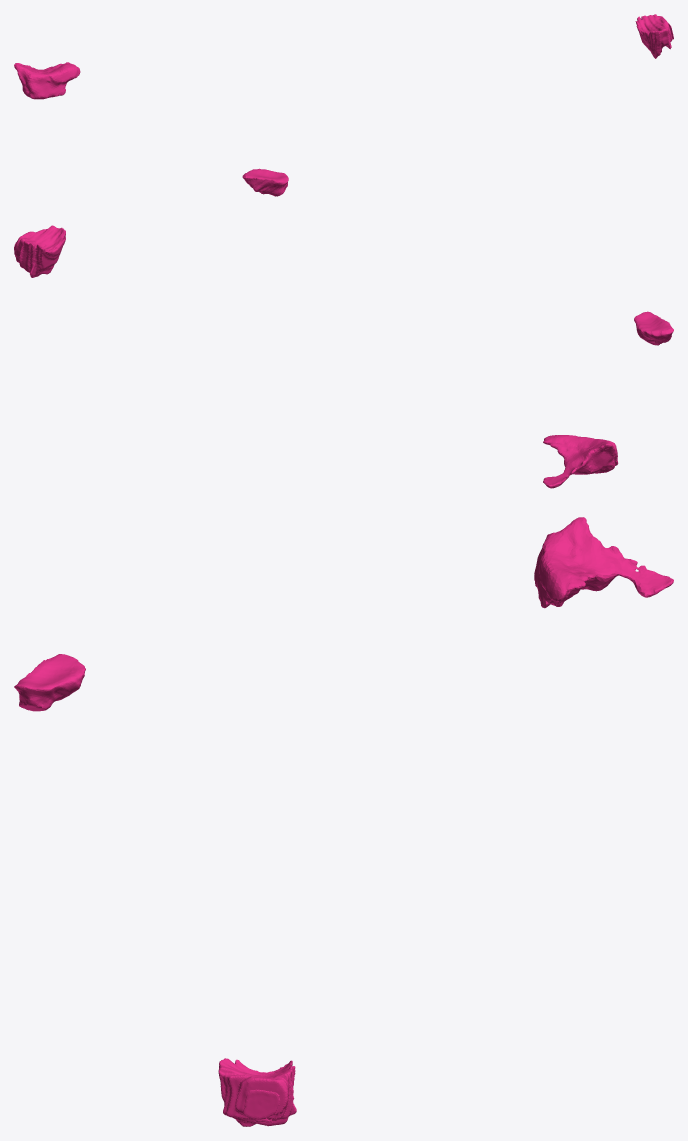
File: Restoration_Restoration_L.glb
3 renders of one model, top to bottom at view 1: azimuth 30°, elevation 25°; view 2: azimuth 150°, elevation 25°; view 3: azimuth 270°, elevation 25°, orthographic. The views are drawn at different scales.
Parts seen in each view (by area): view 1: molar1_filling_mesial_mesh, premolar2_filling_distal_mesh, 20250920T151612_annotation_label_5_composite_restoration_me.; view 2: molar1_filling_mesial_mesh, premolar2_filling_distal_mesh, 20250920T151612_annotation_label_5_composite_restoration_me.; view 3: molar1_filling_mesial_mesh, premolar2_filling_distal_mesh, 20250920T151612_annotation_label_5_composite_restoration_me..
Boxes of the visible parts, x1,y1,x2,y2 form: molar1_filling_mesial_mesh: (14, 62, 80, 99); premolar2_filling_distal_mesh: (635, 14, 673, 58); 20250920T151612_annotation_label_5_composite_restoration_me.: (242, 168, 288, 196); molar1_filling_mesial_mesh: (543, 435, 618, 488); premolar2_filling_distal_mesh: (14, 225, 65, 277); 20250920T151612_annotation_label_5_composite_restoration_me.: (634, 311, 673, 345); molar1_filling_mesial_mesh: (534, 517, 673, 608); premolar2_filling_distal_mesh: (218, 1058, 296, 1126); 20250920T151612_annotation_label_5_composite_restoration_me.: (14, 654, 85, 711).
Bounding box in the file's own units: 53.81 × 5.5 × 29.07.
